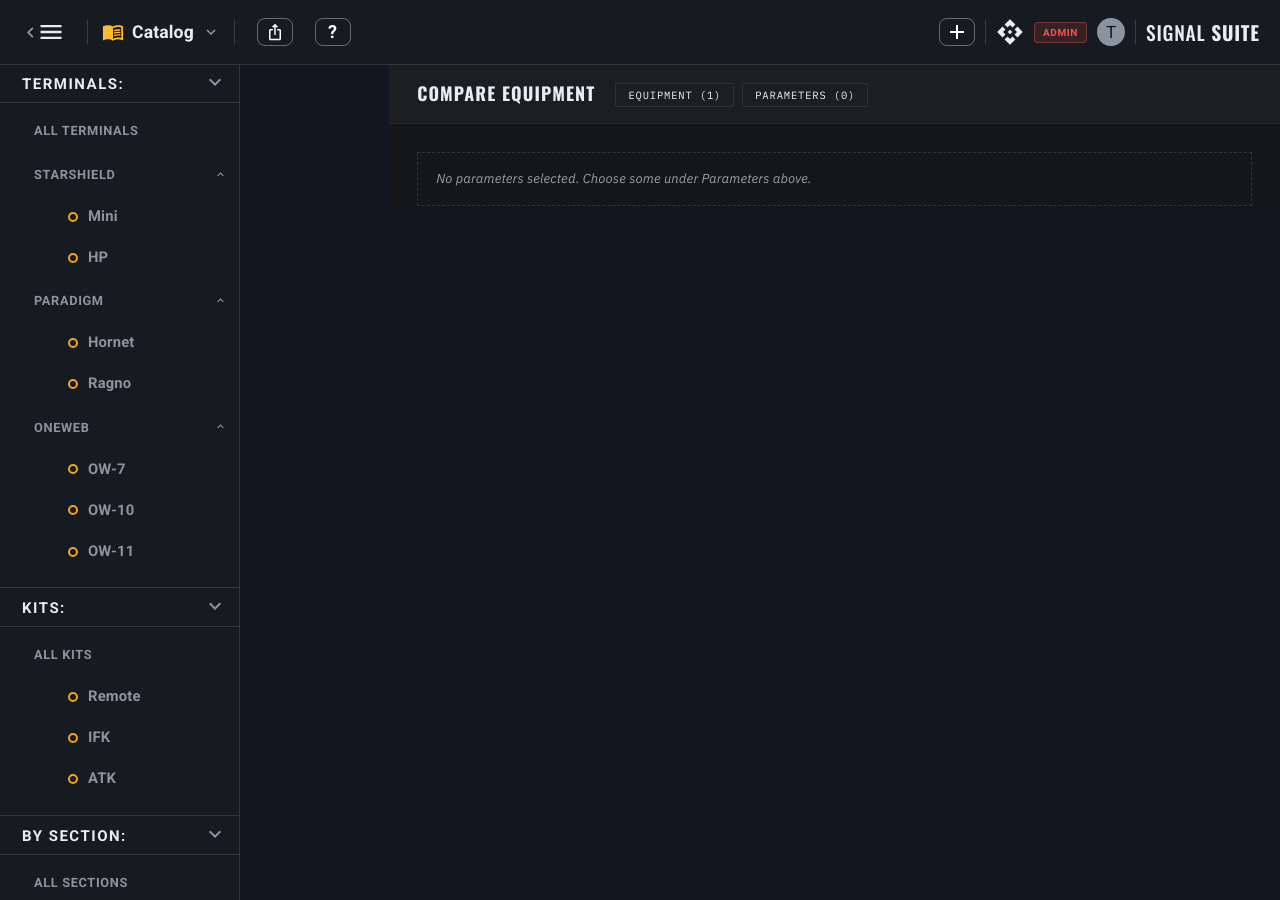
Test: CatalogComparePage › offers a derived band row only while the record producing it is selected
Click the button "Parameters (0)": (805, 95) [742,83,868,107]
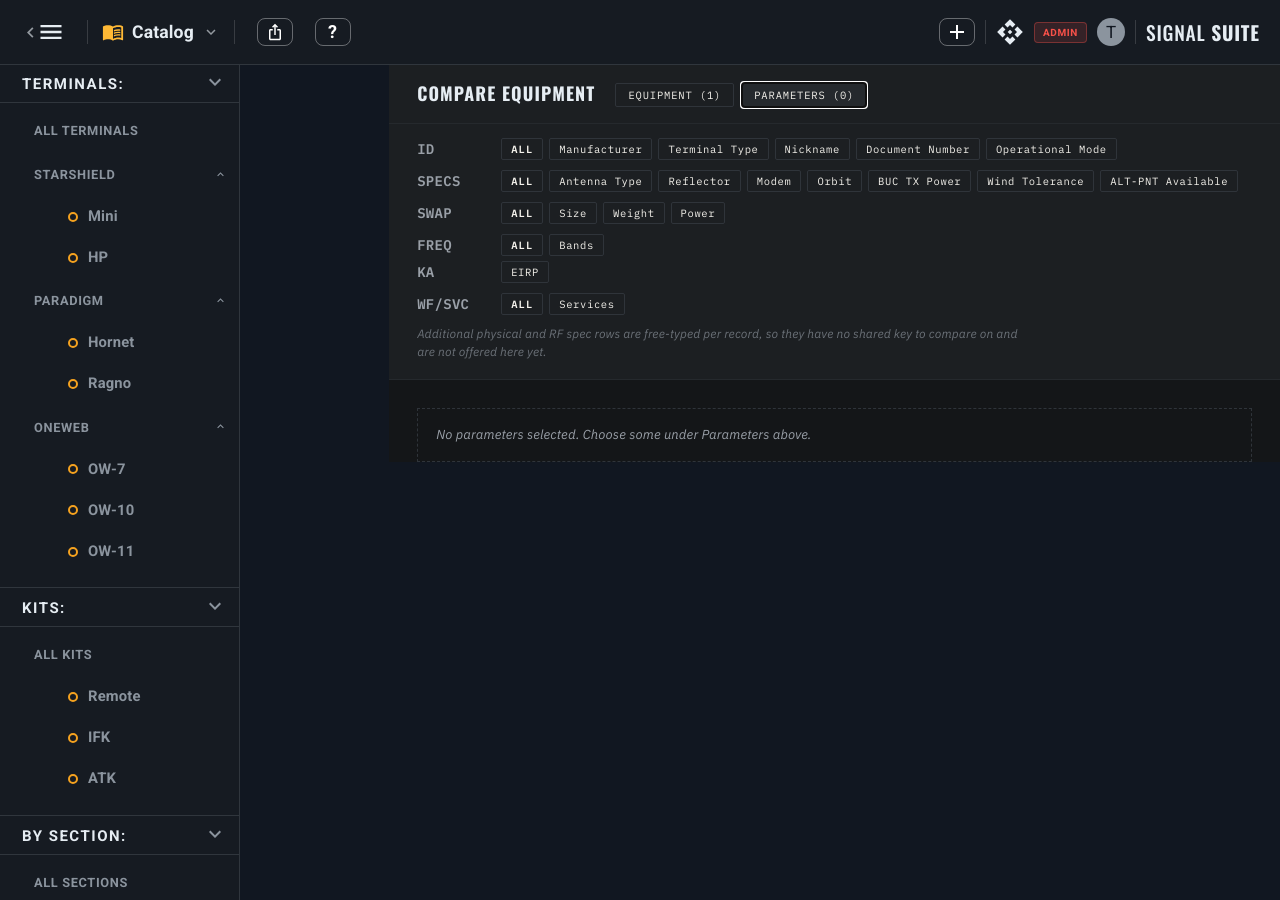
Expected: the button with aria-label "Ka EIRP" is shown, [501,261,549,283]
